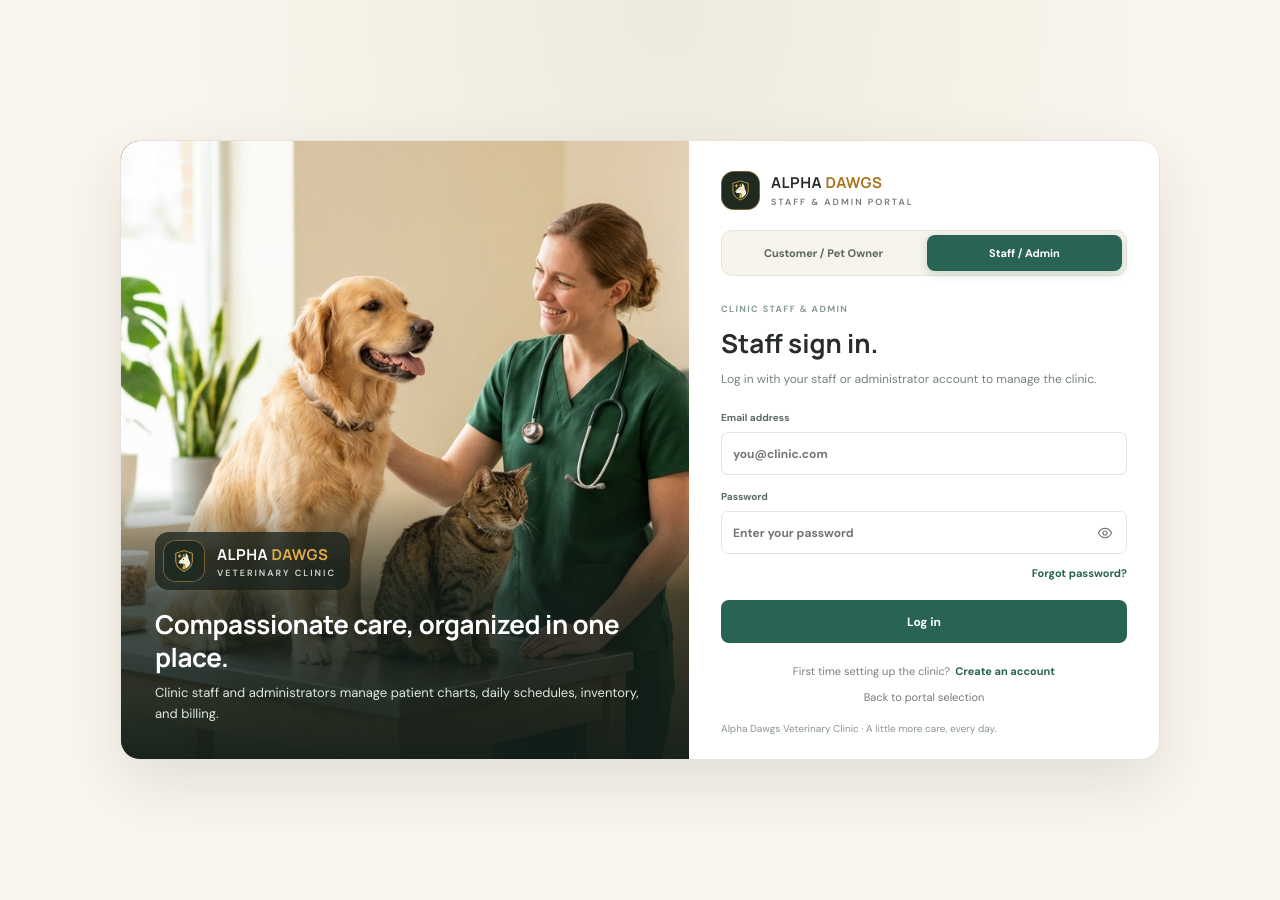
clinic portals and routing › places the forgot-password help under the password field on /staff/login
Step 1. Click the button "Forgot password?" → x=1079, y=573, box [1032, 566, 1127, 580]
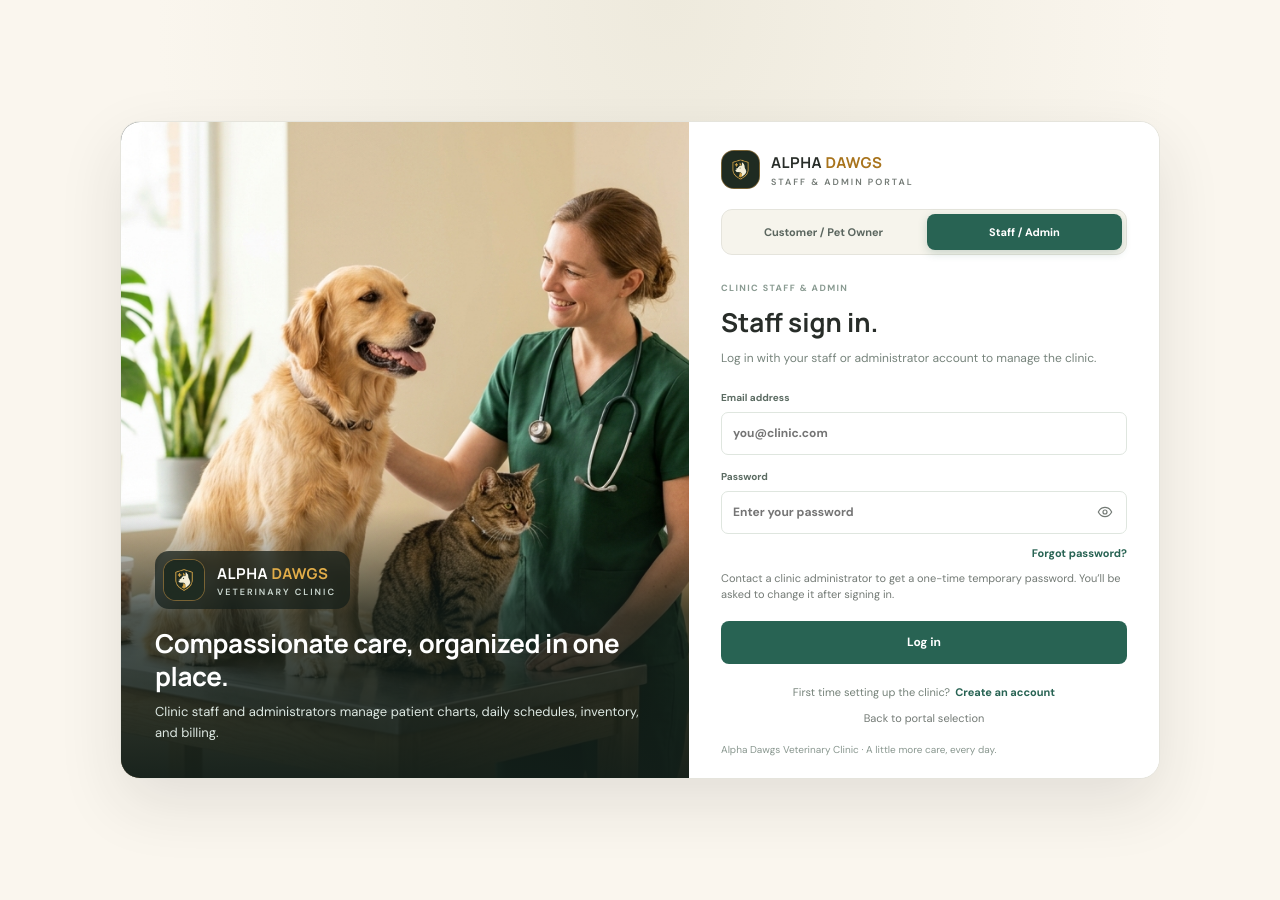
expect the message shows "Contact a clinic administrator": met, box [721, 571, 1121, 601]
